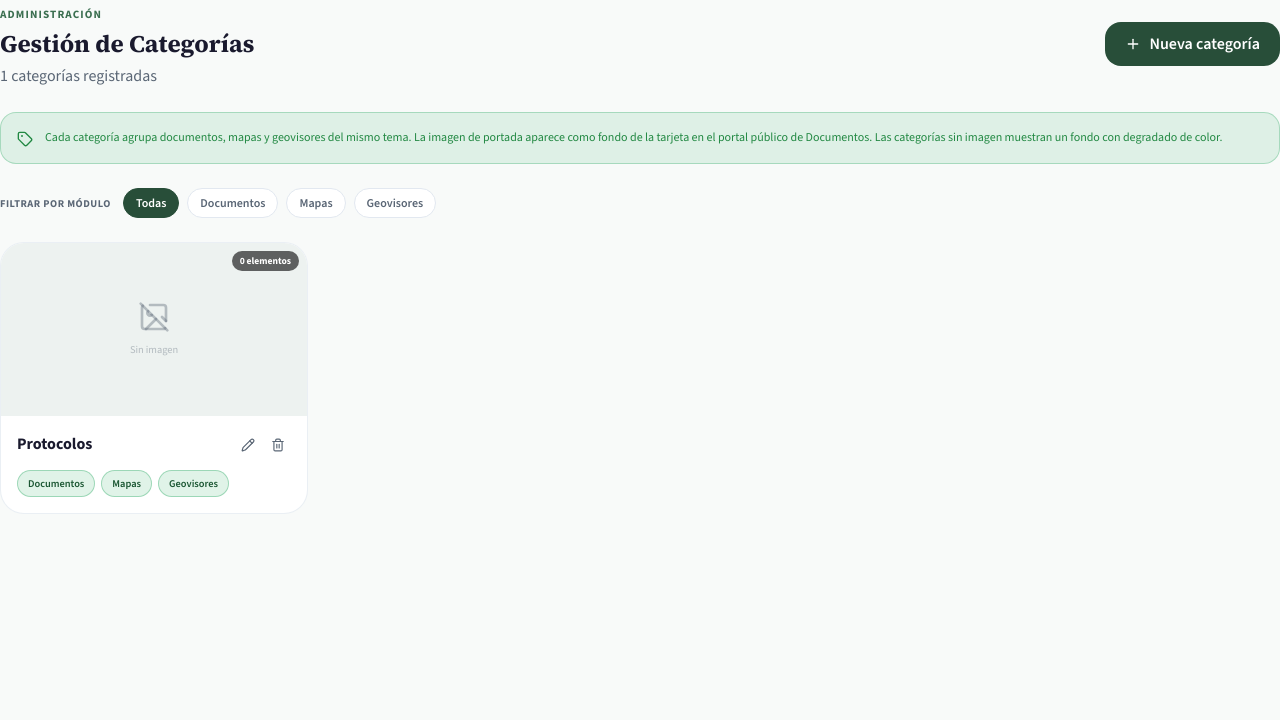
Test: GestionCategorias — eliminar categoría › si el servidor rechaza la eliminación, muestra un toast de error
What coordinates should you click on to do the following:
click the button titled "Eliminar categoría"
I would click on:
 (278, 444)
Its box is left=265, top=432, right=291, bottom=458.
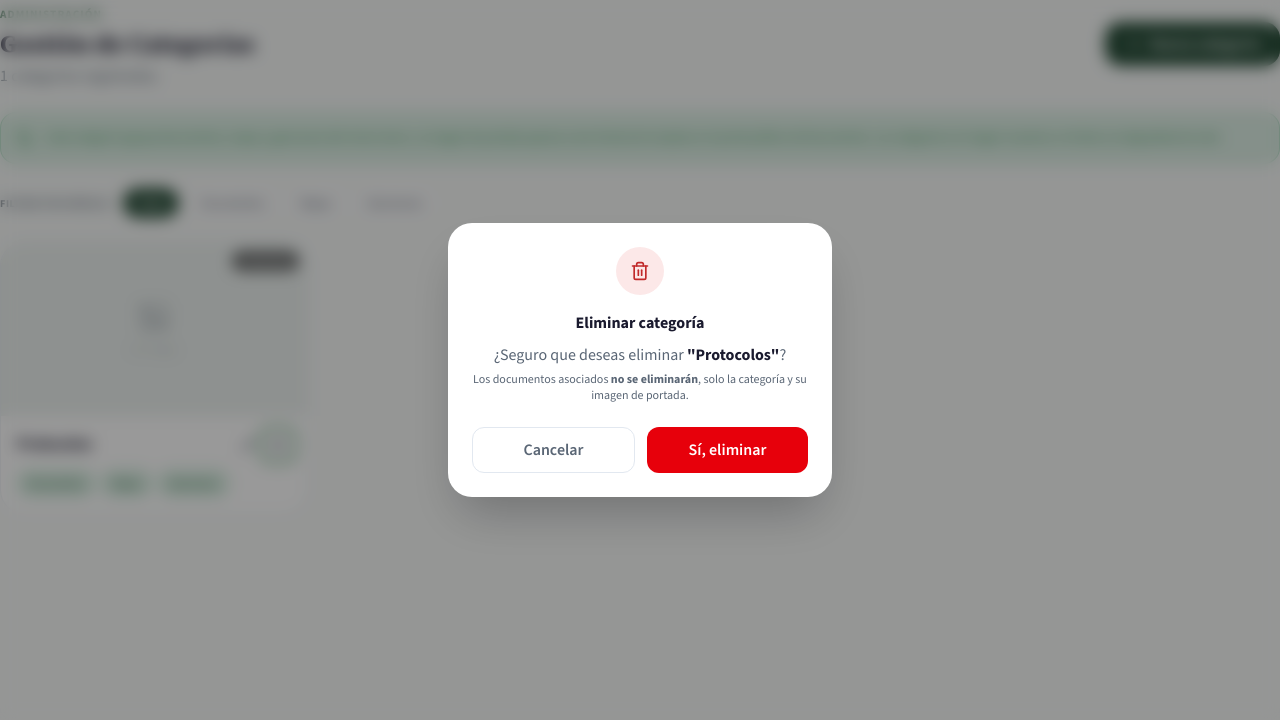
What coordinates should you click on to do the following:
click the button "Sí, eliminar"
I would click on:
 (728, 450)
Its box is left=647, top=427, right=808, bottom=473.
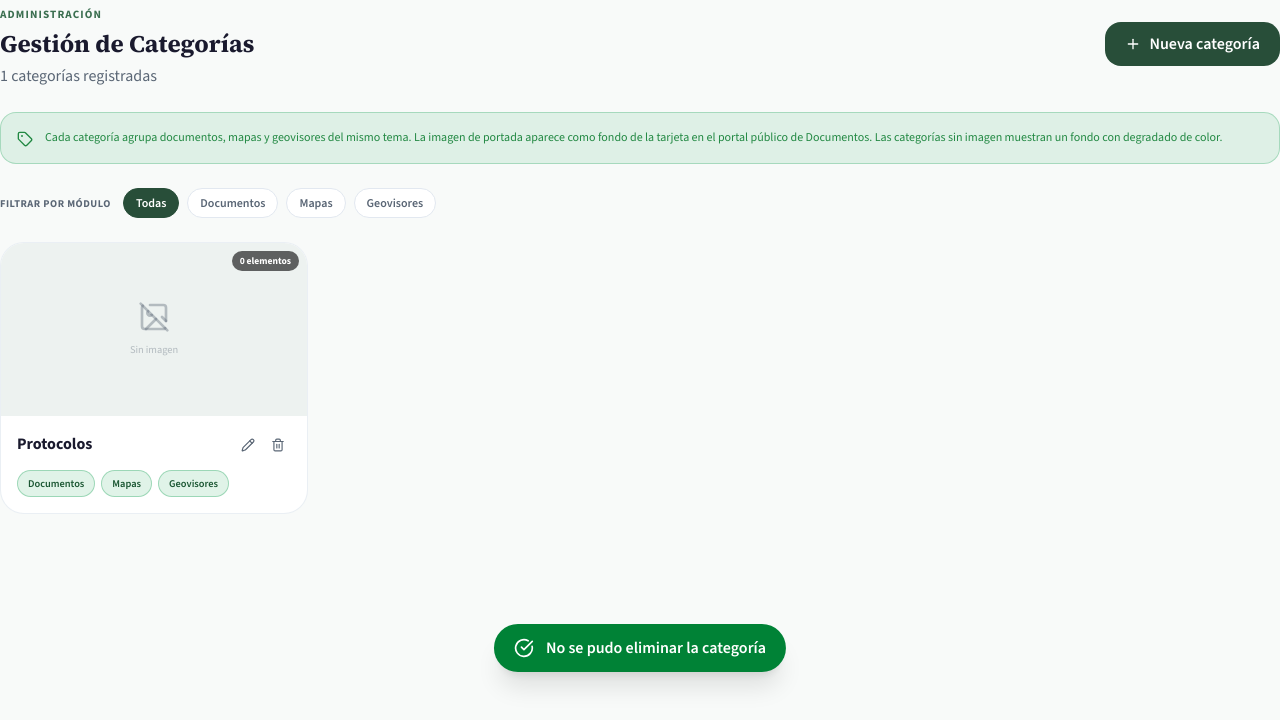
Check: the text "No se pudo eliminar la categoría" is shown, box left=546, top=636, right=766, bottom=660
